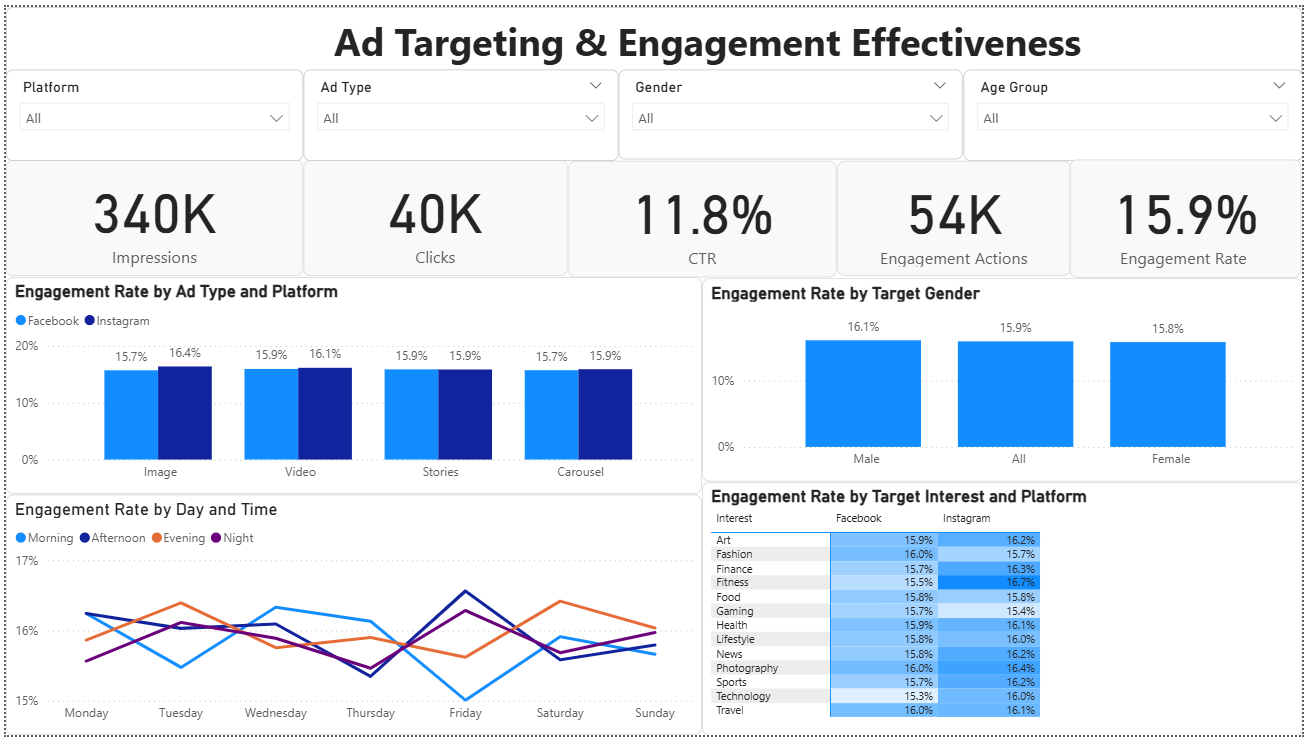

The dashboard page shown, as its layout file describes it:
{"tool":"powerbi","page":{"name":"Ad Targeting & Engagement Effectiveness","canvas":[1280,720],"ordinal":1},"visuals":[{"type":"card","fields":{"Values":["FactAdEvents.Impressions"]},"box":[0,150.9,293.7,115.3],"z":0},{"type":"card","fields":{"Values":["FactAdEvents.Clicks"]},"box":[293.7,150.9,260.7,115.3],"z":1000},{"type":"card","fields":{"Values":["FactAdEvents.CTR"]},"box":[555.7,152.3,264.8,115.3],"z":2000},{"type":"pivotTable","title":"Engagement Rate by Target Interest and Platform","fields":{"Rows":["InterestCategory.Interest"],"Columns":["DimAds.ad_platform"],"Values":["InterestCategory.Interest Engagement Rate"]},"box":[687.6,468.9,592.7,250.3],"z":3000},{"type":"lineChart","title":"Engagement Rate by Day and Time","fields":{"Category":["DimDate.Day Name"],"Y":["FactAdEvents.Engagement Rate (%)"],"Series":["DimTimeOfDay.TimeOfDay"]},"box":[0,481.3,687.6,237.9],"z":4000},{"type":"textbox","box":[0,0,1280.3,78.2],"z":5000},{"type":"clusteredColumnChart","title":"Engagement Rate by Ad Type and Platform","fields":{"Series":["DimAds.ad_platform"],"Category":["DimAds.ad_type"],"Y":["FactAdEvents.Engagement Rate (%)"]},"box":[0,266.8,687.6,214.5],"z":6000},{"type":"clusteredColumnChart","title":"Engagement Rate by Target Gender","fields":{"Category":["DimAds.target_gender"],"Y":["FactAdEvents.Engagement Rate (%)"]},"box":[687.6,268.2,592.7,200.8],"z":7000},{"type":"slicer","title":"Gender","fields":{"Values":["DimUsers.user_gender"]},"box":[605.1,61.7,340.3,89.2],"z":8000},{"type":"slicer","fields":{"Values":["DimAds.ad_platform"]},"box":[0,61.7,293.7,90.6],"z":9000},{"type":"slicer","fields":{"Values":["DimAds.ad_type"]},"box":[293.7,61.7,311.5,90.6],"z":10000},{"type":"slicer","fields":{"Values":["DimUsers.age_group"]},"box":[945.5,61.7,334.8,90.6],"z":11000},{"type":"card","fields":{"Values":["FactAdEvents.Engagement Actions"]},"box":[820.6,152.3,230.5,113.9],"z":12000},{"type":"card","fields":{"Values":["FactAdEvents.Engagement Rate (%)"]},"box":[1051.1,150.9,229.2,116.6],"z":13000}]}

Visuals, with their boxes in screenshot pixels (x1, y1, x2, y2), scaled from the page's 1280x720 canvas onto the 1307x737 screenshot:
card - FactAdEvents.Impressions: {"x1": 0, "y1": 154, "x2": 300, "y2": 272}
card - FactAdEvents.Clicks: {"x1": 300, "y1": 154, "x2": 566, "y2": 272}
card - FactAdEvents.CTR: {"x1": 567, "y1": 156, "x2": 838, "y2": 274}
"Engagement Rate by Target Interest and Platform" pivotTable: {"x1": 702, "y1": 480, "x2": 1306, "y2": 736}
"Engagement Rate by Day and Time" lineChart: {"x1": 0, "y1": 493, "x2": 702, "y2": 736}
textbox: {"x1": 0, "y1": 0, "x2": 1306, "y2": 80}
"Engagement Rate by Ad Type and Platform" clusteredColumnChart: {"x1": 0, "y1": 273, "x2": 702, "y2": 493}
"Engagement Rate by Target Gender" clusteredColumnChart: {"x1": 702, "y1": 275, "x2": 1306, "y2": 480}
"Gender" slicer: {"x1": 618, "y1": 63, "x2": 965, "y2": 154}
slicer - DimAds.ad_platform: {"x1": 0, "y1": 63, "x2": 300, "y2": 156}
slicer - DimAds.ad_type: {"x1": 300, "y1": 63, "x2": 618, "y2": 156}
slicer - DimUsers.age_group: {"x1": 965, "y1": 63, "x2": 1306, "y2": 156}
card - FactAdEvents.Engagement Actions: {"x1": 838, "y1": 156, "x2": 1073, "y2": 272}
card - FactAdEvents.Engagement Rate (%): {"x1": 1073, "y1": 154, "x2": 1306, "y2": 274}
